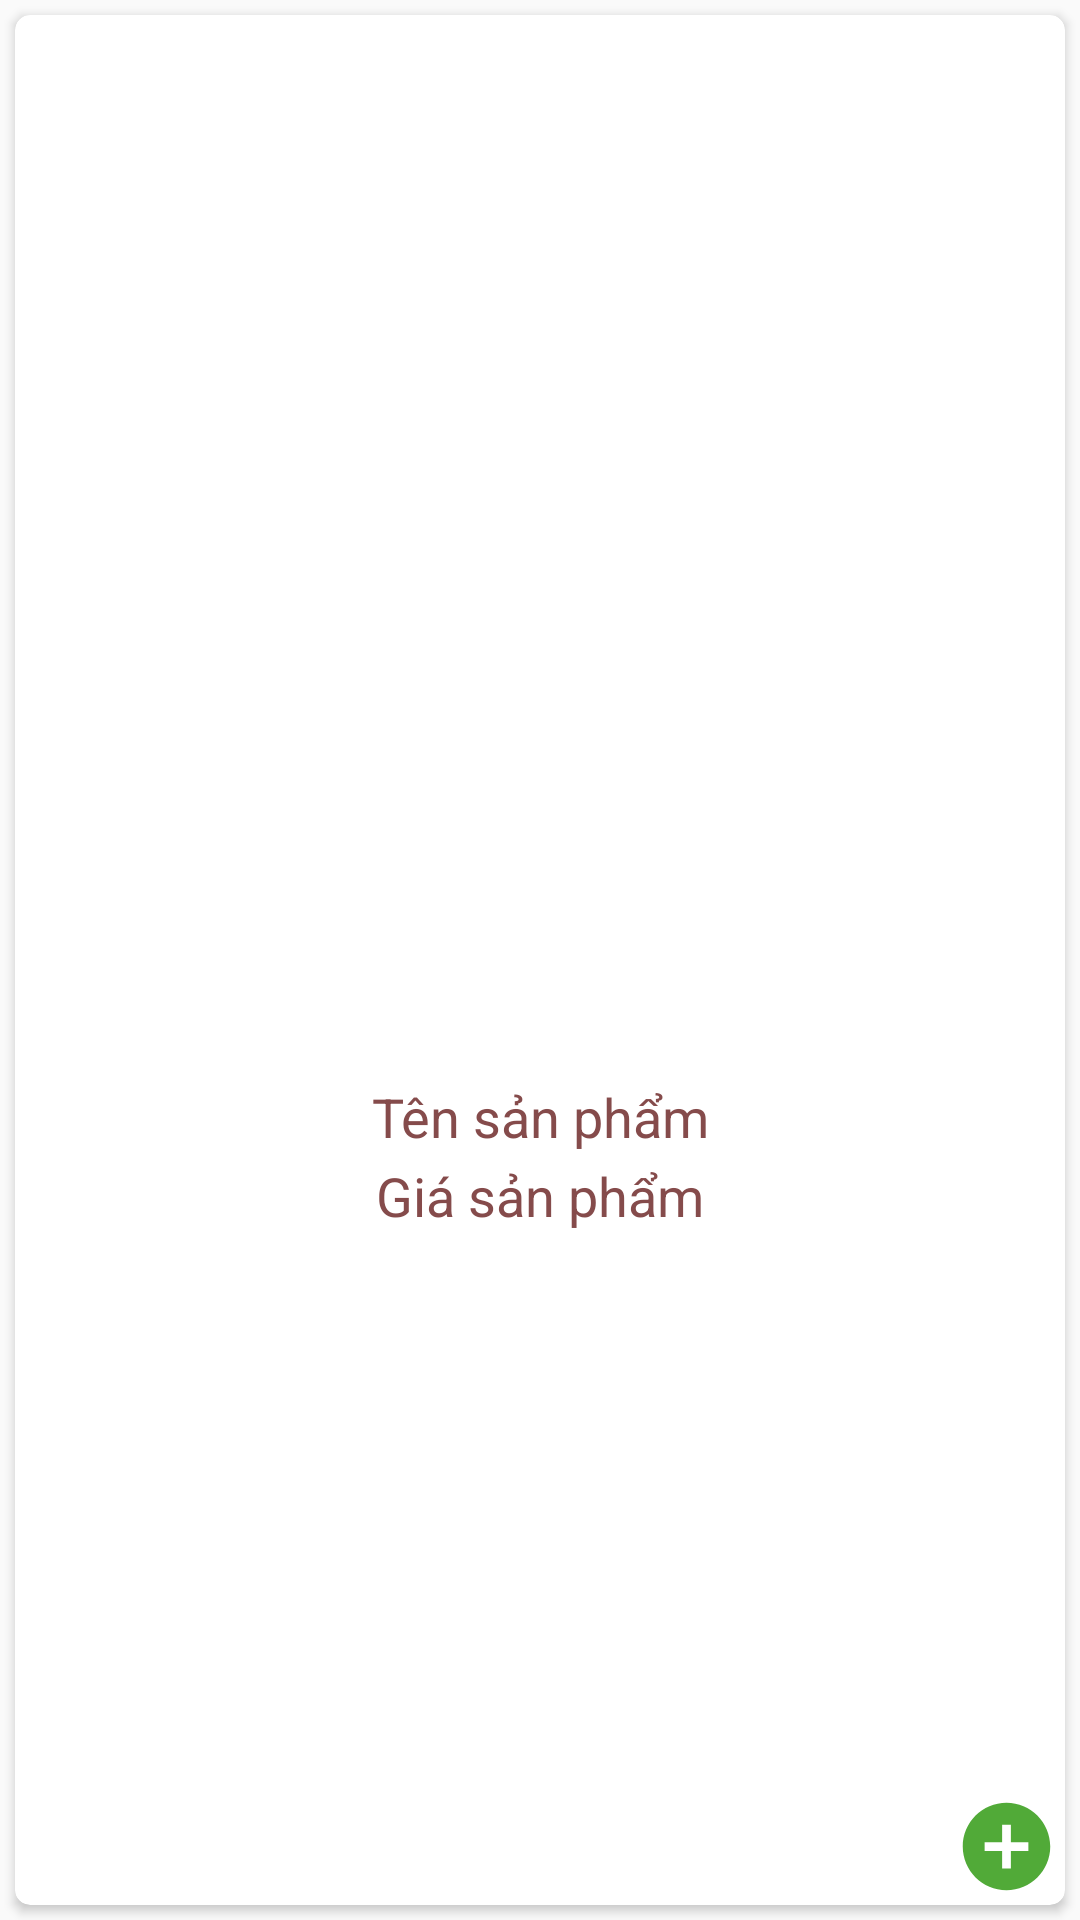

Icons on this 1080px x 1920px Android screen, each with its box as (x1, y1, x2, y2):
add circle: (962, 1802, 1051, 1891)
